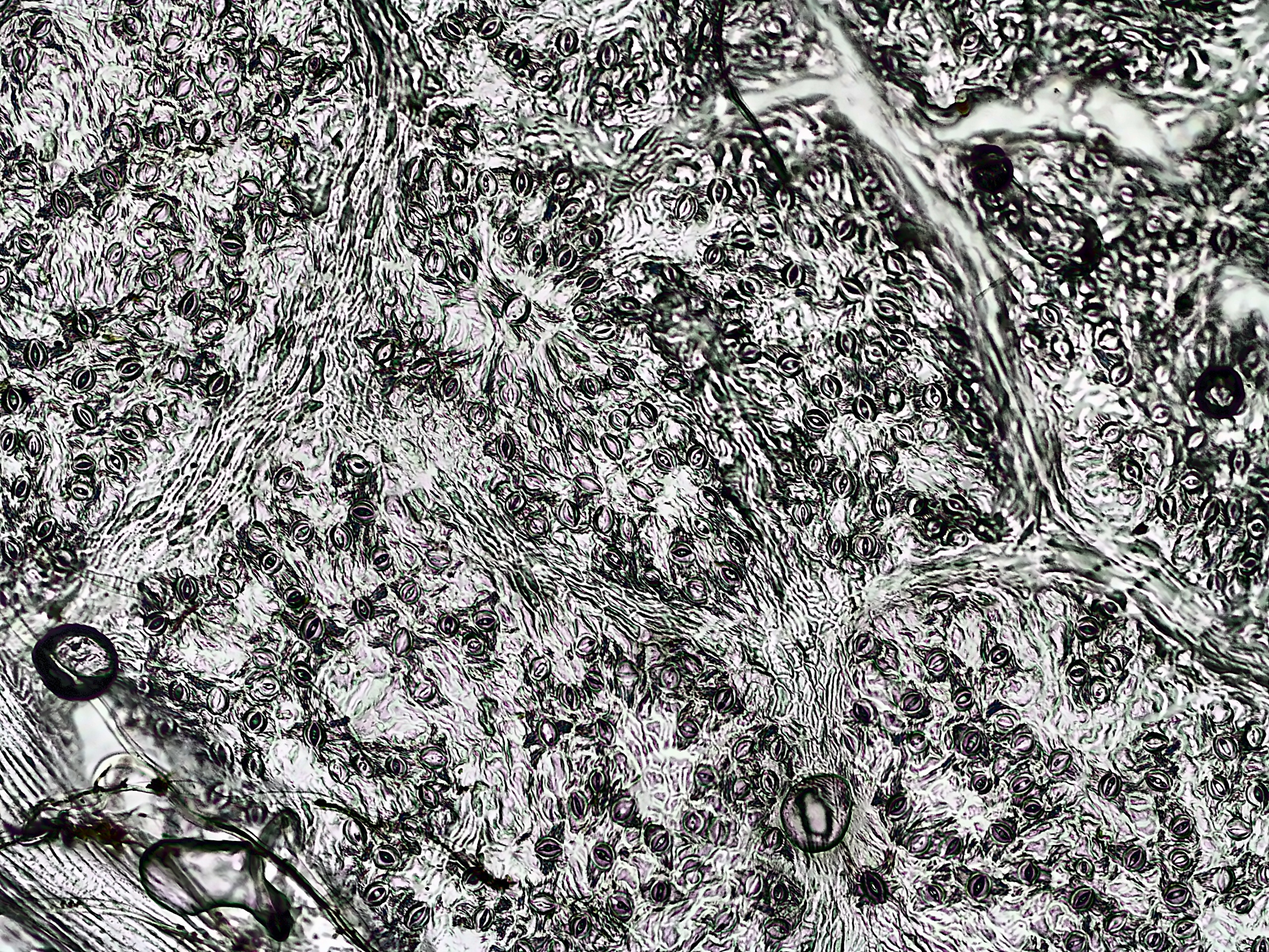stomata: (502, 292, 531, 325), (270, 464, 299, 493), (24, 338, 48, 372), (864, 870, 888, 904), (423, 247, 448, 279), (299, 612, 324, 644), (70, 310, 96, 340), (3, 385, 28, 416), (1214, 223, 1239, 254), (73, 401, 100, 429), (404, 201, 432, 228), (1120, 844, 1146, 873), (176, 574, 200, 605), (178, 288, 201, 320), (22, 430, 45, 462), (70, 366, 96, 394), (697, 486, 725, 512), (373, 845, 402, 870), (852, 395, 877, 424), (225, 278, 249, 308), (348, 500, 378, 524), (210, 740, 234, 770), (556, 498, 580, 528), (832, 469, 856, 499), (967, 872, 991, 902), (1161, 883, 1191, 907), (534, 837, 565, 860), (257, 547, 283, 574), (144, 610, 171, 636), (289, 660, 316, 686), (363, 880, 390, 906), (405, 902, 430, 930), (707, 178, 732, 206), (1213, 732, 1237, 761), (524, 237, 547, 267), (659, 37, 682, 67), (453, 253, 475, 284), (439, 371, 461, 402), (675, 192, 697, 223), (609, 797, 635, 823), (1010, 730, 1037, 755), (718, 564, 746, 588), (776, 353, 804, 377), (290, 516, 313, 545), (207, 686, 230, 715), (471, 609, 500, 632), (51, 189, 73, 219), (556, 28, 578, 58), (554, 243, 576, 273), (244, 750, 266, 780), (782, 260, 804, 290), (528, 891, 558, 913), (446, 161, 467, 192), (450, 206, 471, 237), (392, 627, 413, 658), (146, 200, 172, 225), (476, 14, 502, 39), (369, 544, 394, 570), (885, 793, 911, 818), (100, 163, 124, 190), (560, 197, 584, 224), (460, 867, 487, 891), (270, 138, 298, 161), (206, 370, 229, 398), (420, 746, 448, 769), (1098, 772, 1121, 800), (472, 904, 494, 933), (597, 40, 619, 69), (342, 455, 372, 476), (575, 474, 605, 495), (837, 329, 858, 359), (371, 339, 396, 364), (602, 547, 628, 571), (725, 532, 749, 558), (868, 448, 894, 472), (905, 831, 931, 855), (1075, 617, 1101, 641), (117, 358, 144, 381), (245, 800, 268, 827), (344, 819, 367, 846), (607, 892, 634, 915), (961, 27, 984, 54), (873, 298, 900, 321), (853, 533, 876, 560), (1008, 772, 1035, 795), (1017, 859, 1040, 886), (169, 354, 189, 385), (256, 213, 276, 244), (268, 89, 290, 117), (142, 401, 164, 429), (576, 270, 604, 292), (303, 720, 325, 748), (885, 249, 907, 277), (218, 234, 247, 255), (512, 167, 533, 196), (168, 679, 189, 708), (560, 683, 581, 712), (714, 685, 735, 714), (407, 358, 437, 378), (216, 575, 240, 600), (384, 754, 409, 778), (589, 81, 614, 105), (503, 490, 527, 515), (884, 384, 904, 414), (923, 382, 943, 412), (1021, 797, 1046, 821), (1048, 749, 1072, 774), (257, 44, 280, 70), (189, 118, 212, 144), (303, 52, 326, 78), (318, 71, 341, 97), (399, 578, 422, 604), (243, 708, 266, 734), (402, 816, 425, 842), (628, 479, 654, 502), (961, 730, 984, 756), (476, 169, 498, 196), (498, 220, 520, 247), (330, 524, 352, 551), (209, 781, 231, 808), (438, 612, 460, 639), (839, 279, 866, 301), (500, 382, 522, 409), (609, 363, 636, 385), (1156, 27, 1183, 49), (1145, 769, 1172, 791), (1226, 818, 1253, 840), (153, 122, 174, 150), (2, 537, 23, 565), (539, 447, 560, 475), (602, 433, 623, 461), (927, 592, 956, 612), (653, 448, 677, 472), (766, 915, 790, 939), (1070, 888, 1094, 912), (104, 449, 127, 474), (52, 549, 77, 572), (538, 719, 561, 744), (453, 123, 479, 145), (581, 226, 603, 252), (246, 521, 272, 543), (872, 493, 894, 519), (1110, 361, 1132, 387), (1169, 816, 1195, 838), (497, 432, 516, 462), (834, 214, 855, 241), (821, 373, 842, 400), (1214, 865, 1235, 892), (104, 240, 124, 268), (581, 372, 601, 400), (594, 718, 614, 746), (443, 15, 466, 39), (506, 43, 529, 67), (531, 67, 554, 91), (552, 168, 575, 192), (410, 321, 434, 344), (526, 515, 550, 538), (592, 843, 615, 867), (927, 650, 950, 674), (1103, 910, 1127, 933), (0, 427, 19, 456), (34, 517, 56, 542), (256, 675, 281, 697), (636, 402, 658, 427), (892, 423, 917, 445), (222, 110, 243, 136), (118, 422, 144, 443), (556, 385, 577, 411), (12, 47, 32, 74), (174, 74, 194, 101), (419, 782, 439, 809), (687, 444, 707, 471), (570, 913, 590, 940), (794, 500, 814, 527), (827, 533, 847, 560), (12, 475, 31, 503), (405, 155, 424, 183), (497, 351, 516, 379), (595, 504, 614, 532), (1229, 447, 1248, 475), (462, 632, 485, 655), (1065, 661, 1088, 684), (30, 16, 52, 40), (15, 159, 39, 181), (137, 161, 159, 185), (169, 246, 191, 270), (277, 194, 301, 216), (805, 410, 829, 432), (943, 491, 967, 513), (987, 646, 1011, 668), (970, 771, 992, 795), (1171, 847, 1193, 871), (1210, 702, 1234, 724), (202, 319, 227, 340), (238, 176, 263, 197), (567, 427, 588, 452), (1099, 421, 1124, 442), (469, 402, 489, 428), (1173, 919, 1199, 939), (616, 295, 643, 314), (662, 371, 689, 390), (776, 182, 793, 212), (570, 789, 587, 819), (213, 50, 235, 73), (138, 318, 160, 341), (691, 515, 714, 537), (528, 657, 551, 679), (616, 661, 639, 683), (1207, 568, 1229, 591), (686, 578, 710, 599), (650, 879, 671, 903), (769, 734, 787, 762), (1098, 329, 1122, 350), (1144, 731, 1168, 752), (1209, 776, 1230, 800), (1230, 894, 1254, 915), (147, 73, 167, 98), (132, 295, 157, 315), (252, 648, 277, 668), (156, 715, 176, 740), (629, 81, 649, 106), (1064, 932, 1089, 952), (590, 320, 616, 339), (1199, 496, 1216, 525), (1226, 497, 1244, 524), (163, 31, 185, 53), (140, 267, 162, 289), (414, 681, 436, 703), (609, 408, 631, 430), (740, 341, 762, 363), (924, 883, 946, 905), (1119, 459, 1141, 481), (853, 635, 875, 657), (215, 76, 238, 97), (328, 759, 349, 782), (1238, 552, 1261, 573), (953, 687, 974, 710), (941, 836, 962, 859), (14, 233, 38, 253), (72, 454, 96, 474), (704, 243, 724, 267), (526, 412, 546, 436), (660, 665, 680, 689), (806, 454, 826, 478), (887, 329, 911, 349), (1246, 725, 1266, 749), (115, 122, 136, 144), (252, 119, 273, 141), (97, 200, 118, 222), (576, 633, 597, 655), (733, 738, 754, 760), (991, 822, 1012, 844), (1100, 654, 1121, 676), (122, 13, 142, 36), (71, 480, 94, 500), (684, 810, 704, 833), (426, 550, 453, 567), (651, 828, 668, 855), (283, 586, 307, 605), (354, 596, 373, 620), (738, 176, 757, 200), (764, 827, 783, 851), (1247, 782, 1266, 806), (722, 319, 747, 337), (698, 17, 715, 43), (133, 226, 154, 247), (1040, 303, 1061, 324), (1151, 402, 1172, 423), (1084, 304, 1106, 324), (1248, 516, 1268, 538), (907, 731, 927, 753), (907, 493, 926, 516), (1181, 473, 1204, 492), (802, 224, 820, 248), (670, 543, 694, 561), (589, 769, 607, 793), (760, 769, 777, 794), (573, 302, 593, 323), (680, 719, 700, 740), (865, 343, 885, 364), (1144, 928, 1164, 949), (686, 73, 705, 95), (948, 526, 967, 548), (854, 701, 873, 723), (903, 692, 922, 714), (994, 713, 1016, 732), (710, 819, 726, 845), (718, 911, 736, 934), (771, 881, 789, 904), (224, 24, 248, 41), (1024, 329, 1043, 350), (1075, 857, 1094, 878), (806, 165, 824, 187), (209, 0, 232, 17), (1157, 495, 1174, 518), (844, 732, 861, 755), (746, 872, 761, 898), (956, 383, 971, 409), (663, 263, 682, 283), (585, 671, 604, 691), (971, 413, 991, 432), (739, 277, 760, 295), (620, 515, 634, 542), (642, 568, 663, 586), (1187, 429, 1205, 450), (731, 232, 756, 247), (773, 391, 792, 410), (925, 519, 944, 538), (0, 265, 12, 295), (1091, 683, 1109, 703), (218, 553, 239, 570), (942, 729, 957, 752), (697, 766, 716, 784), (1102, 598, 1121, 615), (1250, 935, 1269, 952), (776, 458, 794, 475), (758, 219, 779, 233), (1258, 863, 1269, 888), (515, 940, 535, 952), (550, 939, 568, 952), (85, 131, 100, 146), (123, 0, 149, 7)
